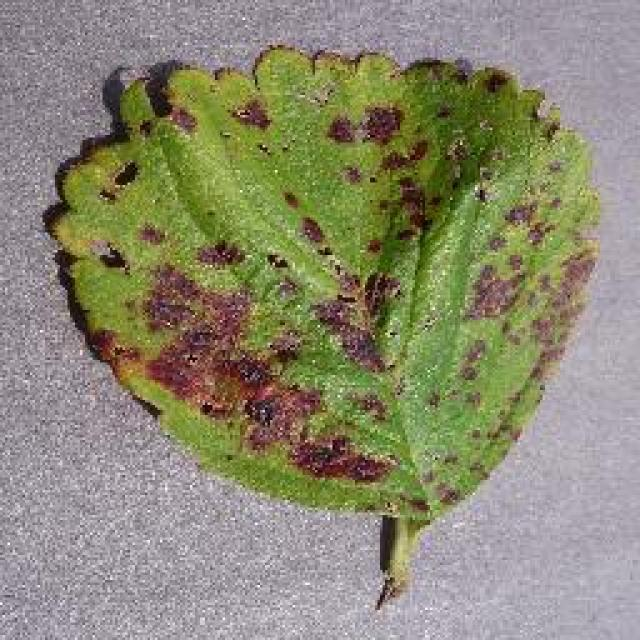Strawberry leaf scorch: (110, 167, 518, 400)
